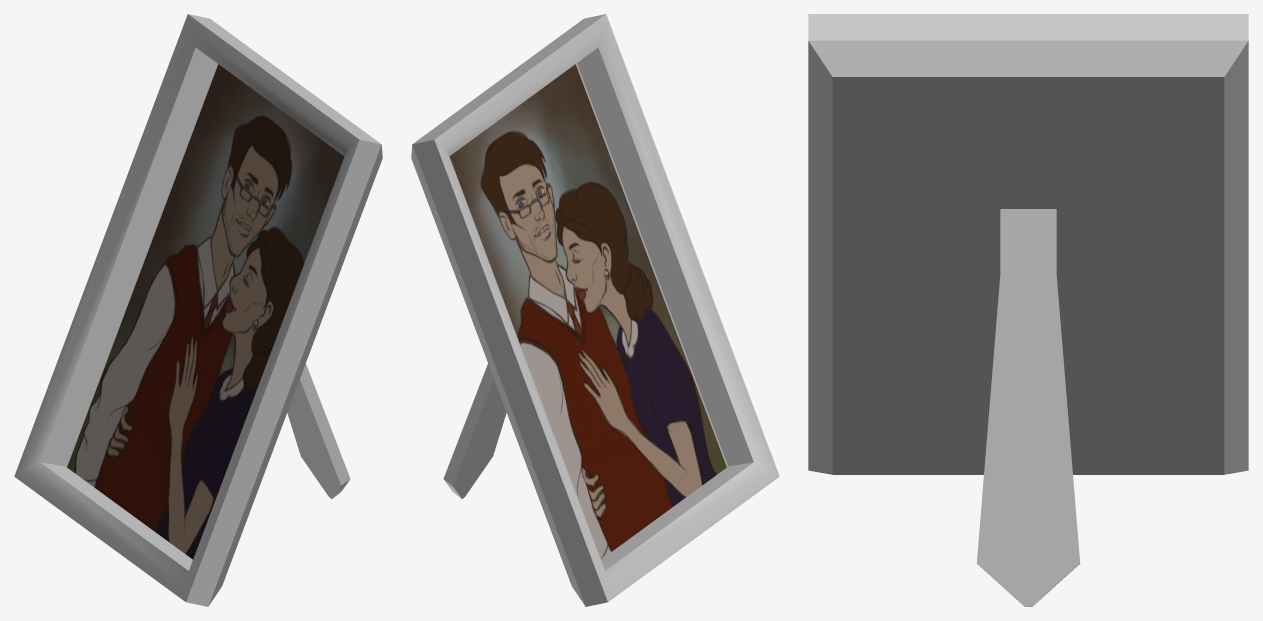
File: PictureFrame_1.FBX
3 views of the same model, side by side, from view 1: azimuth 30°, elevation 25°; view 2: azimuth 150°, elevation 25°; view 3: azimuth 270°, elevation 25° (orthographic). The views are drawn at different scales.
Visible parts, largest first — view 1: picture2, frame1; view 2: picture2, frame1; view 3: frame1.
Boxes of the visible parts, left/top/right/bottom form: picture2: left=67, top=64, right=344, bottom=559; frame1: left=14, top=14, right=382, bottom=606; picture2: left=449, top=64, right=726, bottom=559; frame1: left=411, top=14, right=779, bottom=606; frame1: left=808, top=14, right=1248, bottom=606.
Size of the model in its own units: 7.82 by 13.56 by 9.71.
